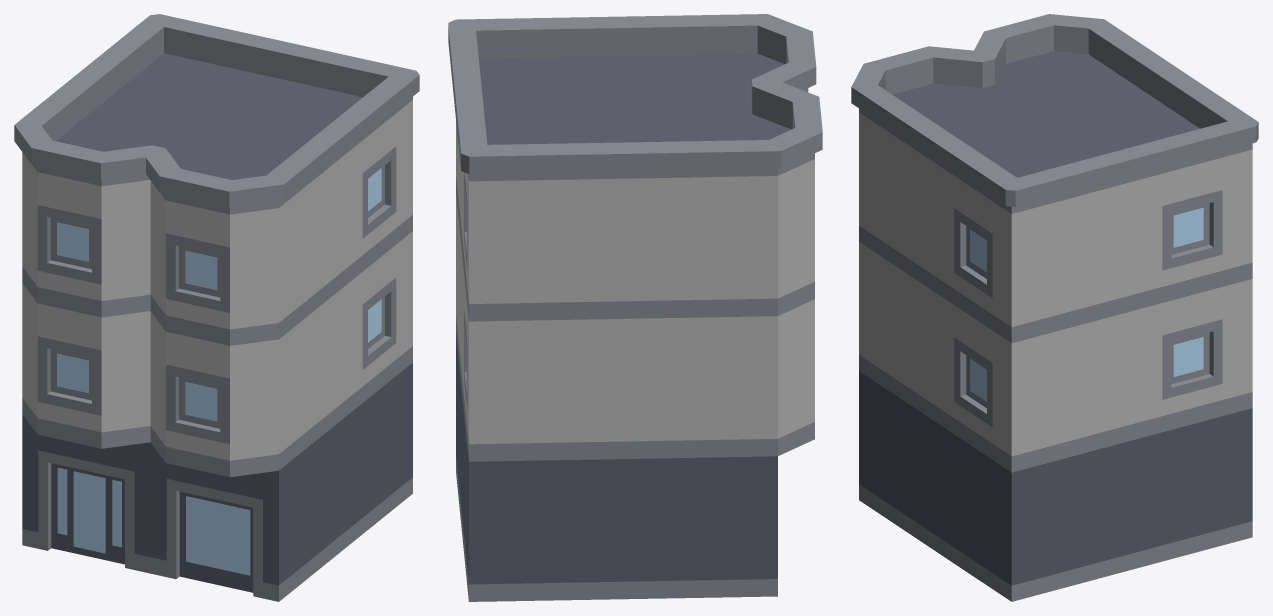
File: variant_17.fbx
The picture shows the model from 3 angles, left to right: view 1: azimuth 30°, elevation 25°; view 2: azimuth 150°, elevation 25°; view 3: azimuth 270°, elevation 25°; orthographic projection. The views are drawn at different scales.
Visible parts, largest first — view 1: small_buildingA; view 2: small_buildingA; view 3: small_buildingA.
Part boxes in pixels (x1=…): small_buildingA: x1=14, y1=14, x2=419, y2=601; small_buildingA: x1=448, y1=14, x2=822, y2=601; small_buildingA: x1=851, y1=14, x2=1258, y2=601.
Size of the model in its own units: 117 by 128 by 114.
